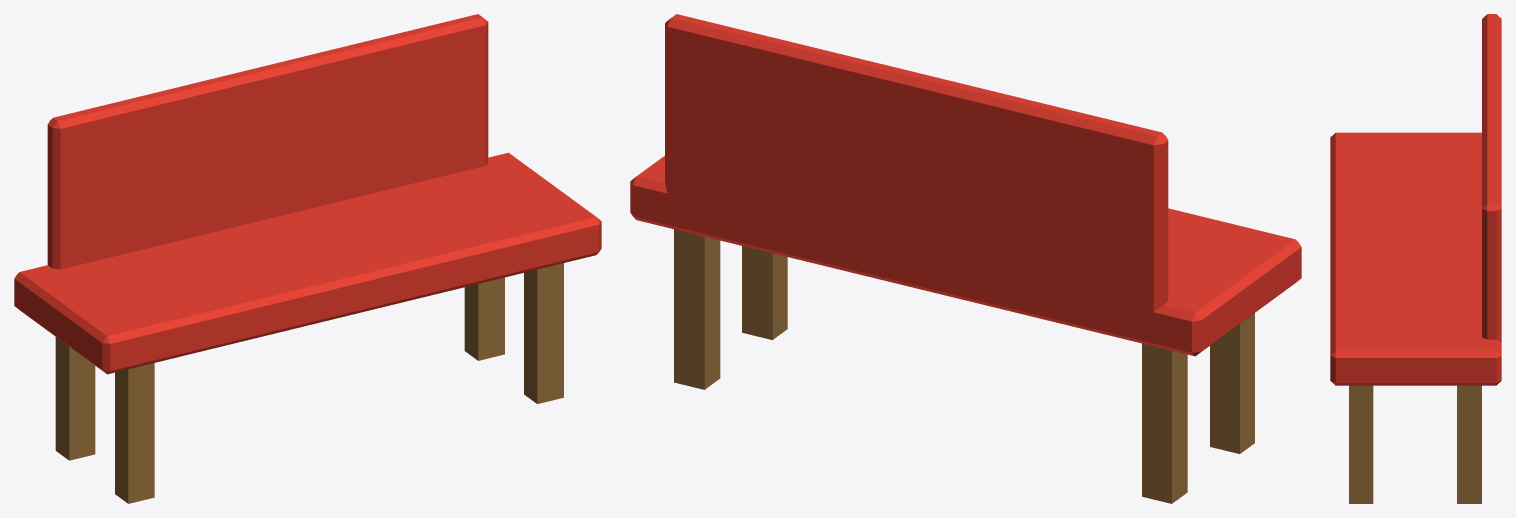
File: KitchenBank_Material.fbx
3 views of the same model, side by side, from view 1: azimuth 30°, elevation 25°; view 2: azimuth 150°, elevation 25°; view 3: azimuth 270°, elevation 25° (orthographic). The views are drawn at different scales.
Parts seen in each view (by area): view 1: Kitchen Bank; view 2: Kitchen Bank; view 3: Kitchen Bank.
Boxes of the visible parts, x1,y1,x2,y2 form: Kitchen Bank: [14, 14, 601, 503]; Kitchen Bank: [630, 14, 1301, 503]; Kitchen Bank: [1330, 14, 1501, 503].
Bounding box in the file's own units: 0.8851 × 0.5519 × 0.288.
